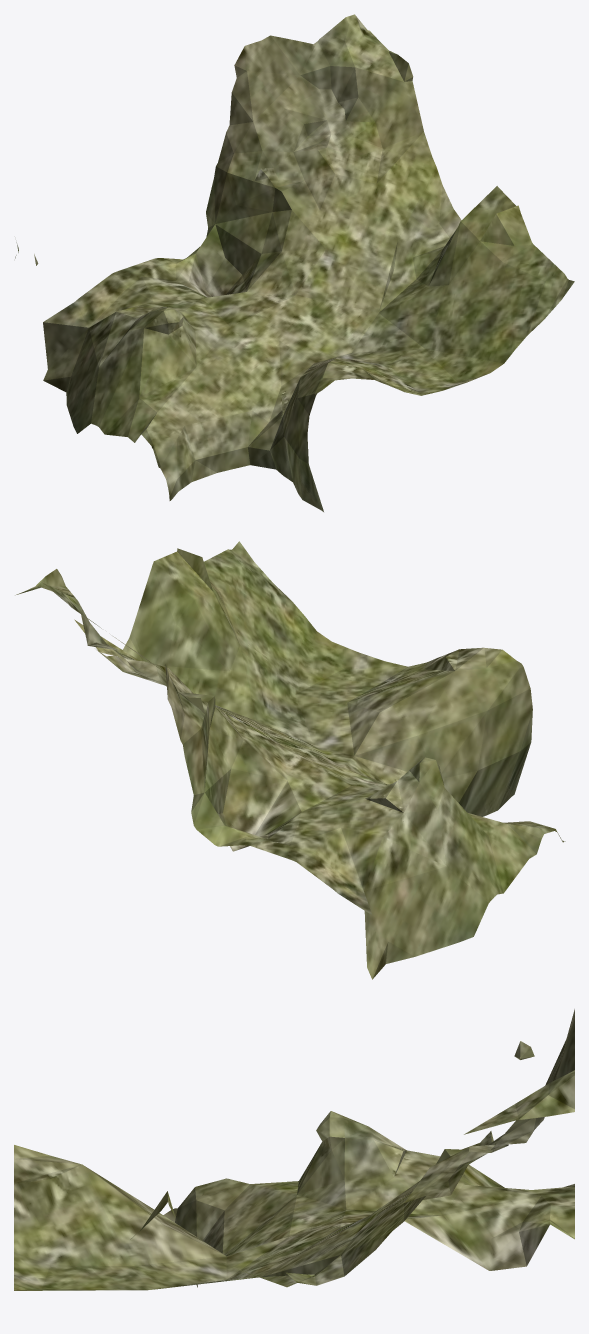
3 renders of one model, top to bottom at view 1: azimuth 30°, elevation 25°; view 2: azimuth 150°, elevation 25°; view 3: azimuth 270°, elevation 25°, orthographic. The views are drawn at different scales.
Bounding box in the file's own units: 2.95 × 2.3 × 2.95.
3 materials, 3 textured.
